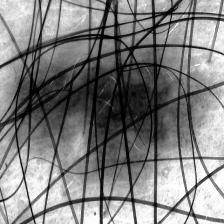Benign Marking or Mole: (26, 52, 214, 173)
